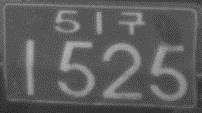1: (15, 39, 46, 96), (89, 10, 109, 34)
2: (102, 41, 142, 100)
5: (148, 44, 189, 101), (56, 39, 96, 97), (54, 9, 80, 33)
구: (118, 10, 145, 35)
